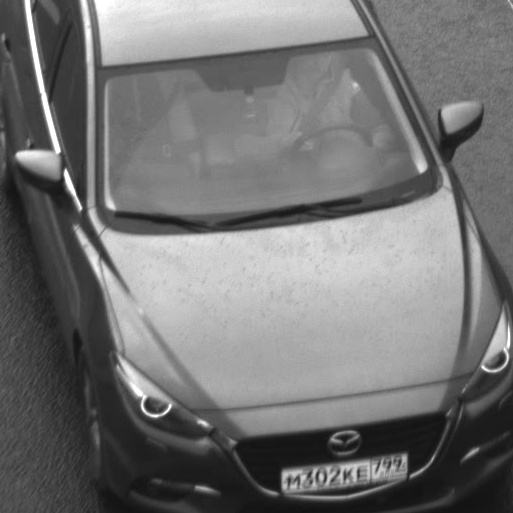plate: (272, 441, 418, 499)
